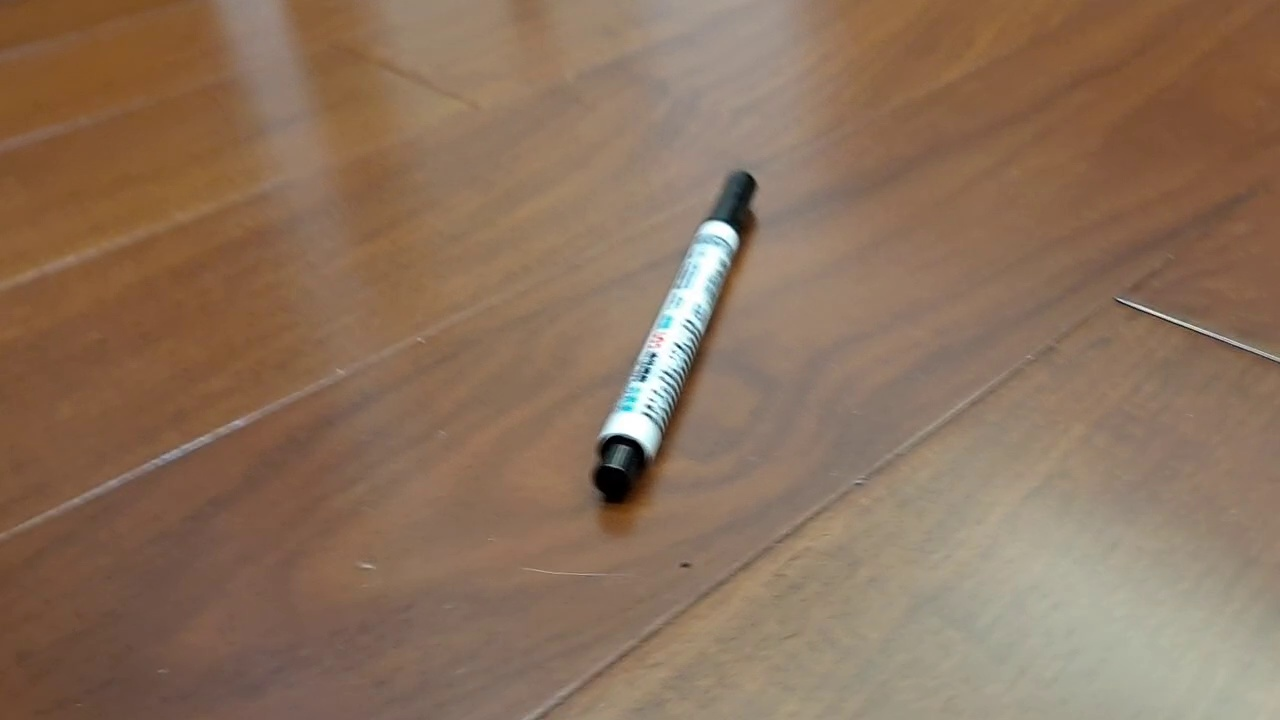pen: (590, 169, 759, 503)
